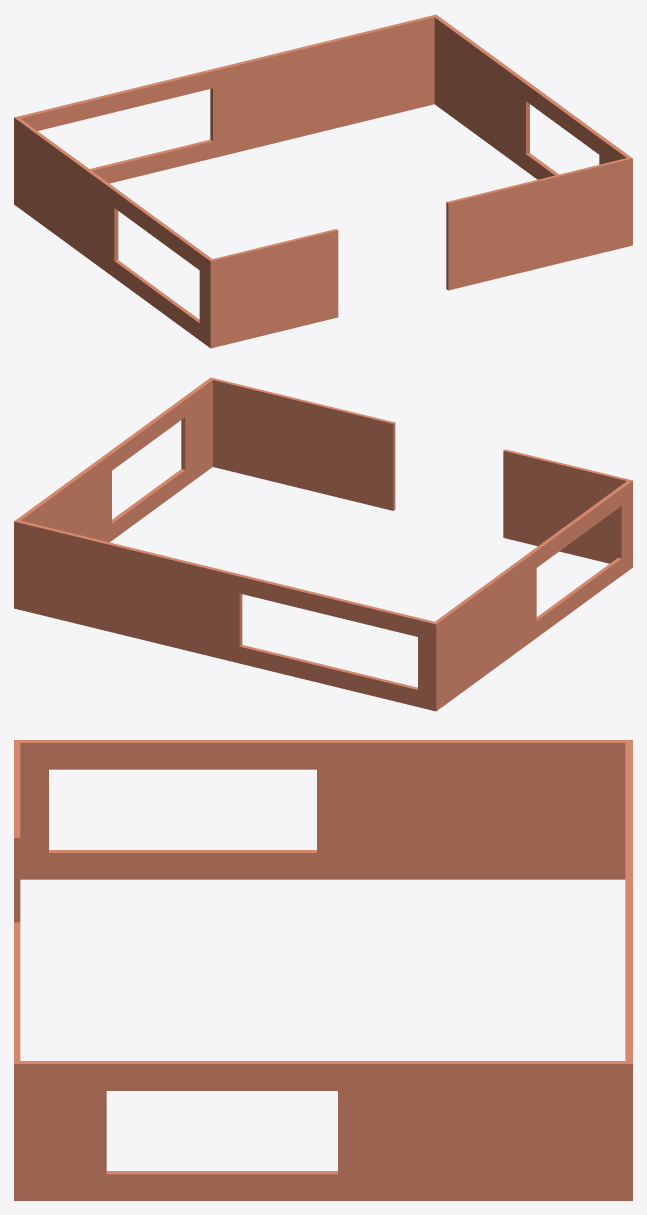
Rendered from bank_walls.fbx.
3 views of the same model, one above another, from view 1: azimuth 30°, elevation 25°; view 2: azimuth 150°, elevation 25°; view 3: azimuth 270°, elevation 25° (orthographic). The views are drawn at different scales.
Parts seen in each view (by area): view 1: uv_ana_duvar.003, uv_ana_duvar.001, uv_ana_duvar.004, uv_ana_duvar, uv_ana_duvar.002; view 2: uv_ana_duvar.003, uv_ana_duvar.001, uv_ana_duvar.004, uv_ana_duvar.002, uv_ana_duvar; view 3: uv_ana_duvar.002, uv_ana_duvar.004, uv_ana_duvar.003, uv_ana_duvar, uv_ana_duvar.001.
Part boxes in pixels (box(x1,y1,x2,y2)): uv_ana_duvar.003: box(18, 14, 438, 183); uv_ana_duvar.001: box(446, 158, 628, 290); uv_ana_duvar.004: box(14, 116, 211, 346); uv_ana_duvar: box(208, 229, 338, 348); uv_ana_duvar.002: box(434, 16, 632, 246); uv_ana_duvar.003: box(14, 519, 434, 710); uv_ana_duvar.001: box(213, 378, 395, 510); uv_ana_duvar.004: box(432, 481, 630, 711); uv_ana_duvar.002: box(17, 377, 214, 542); uv_ana_duvar: box(503, 449, 632, 568); uv_ana_duvar.002: box(14, 1061, 625, 1200); uv_ana_duvar.004: box(20, 740, 632, 879); uv_ana_duvar.003: box(625, 743, 632, 1200); uv_ana_duvar: box(14, 740, 20, 922); uv_ana_duvar.001: box(14, 922, 20, 1060).
Bounding box in the file's own units: 106 × 85.89 × 20.95.
